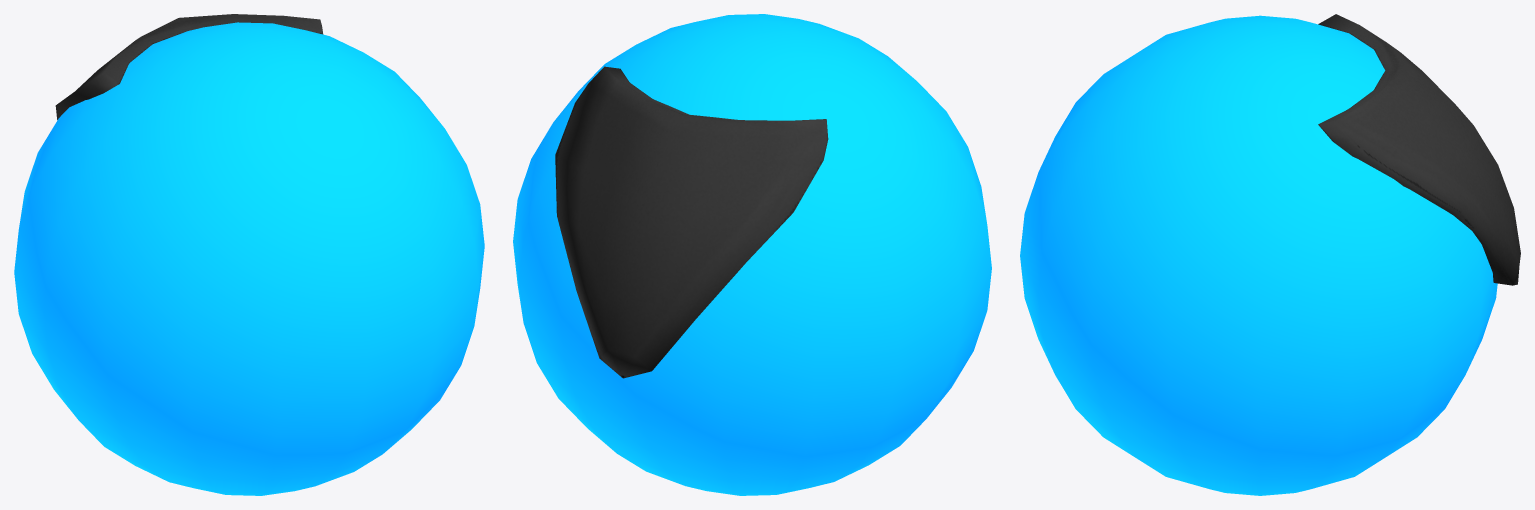
The model's file is ElipCuerpo.fbx.
The picture shows the model from 3 angles, left to right: view 1: azimuth 30°, elevation 25°; view 2: azimuth 150°, elevation 25°; view 3: azimuth 270°, elevation 25°; orthographic projection.
Parts seen in each view (by area): view 1: Sphere.006; view 2: Sphere.006; view 3: Sphere.006.
Part boxes in pixels (left/top/right/bottom): Sphere.006: left=14, top=14, right=484, bottom=495; Sphere.006: left=513, top=14, right=991, bottom=495; Sphere.006: left=1020, top=14, right=1520, bottom=495.
Bounding box in the file's own units: 3.79 × 3.79 × 3.95.
